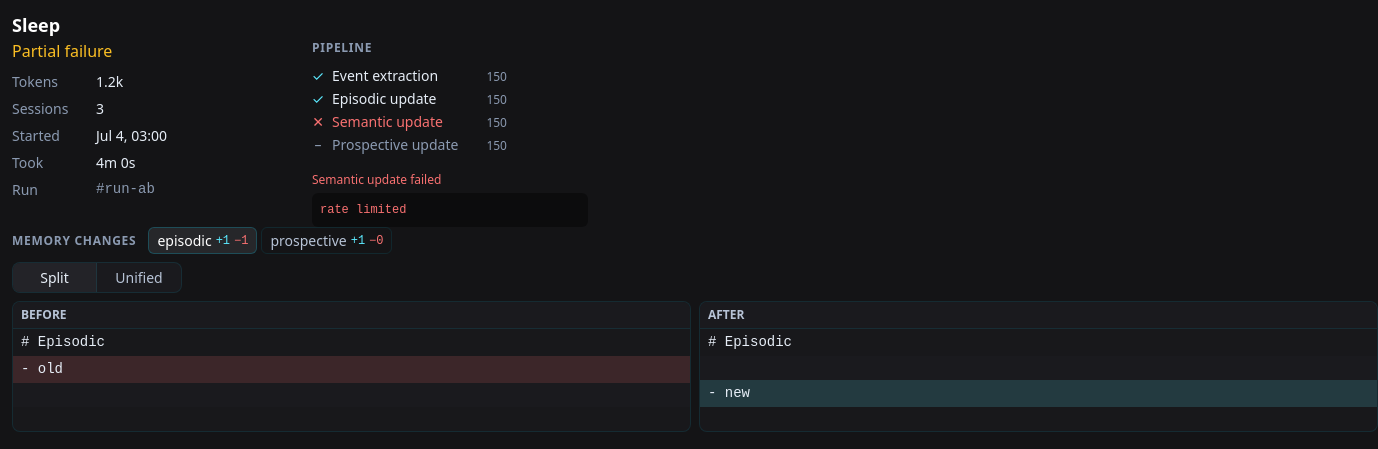
SleepRunBody › lists_only_changed_files_and_switches_the_diff
The image size is (1378, 449).
Step 1. Click the button with class "file-chip" showing "prospective +1 −0" → (327, 240), box top-left (262, 227), bottom-right (392, 254)
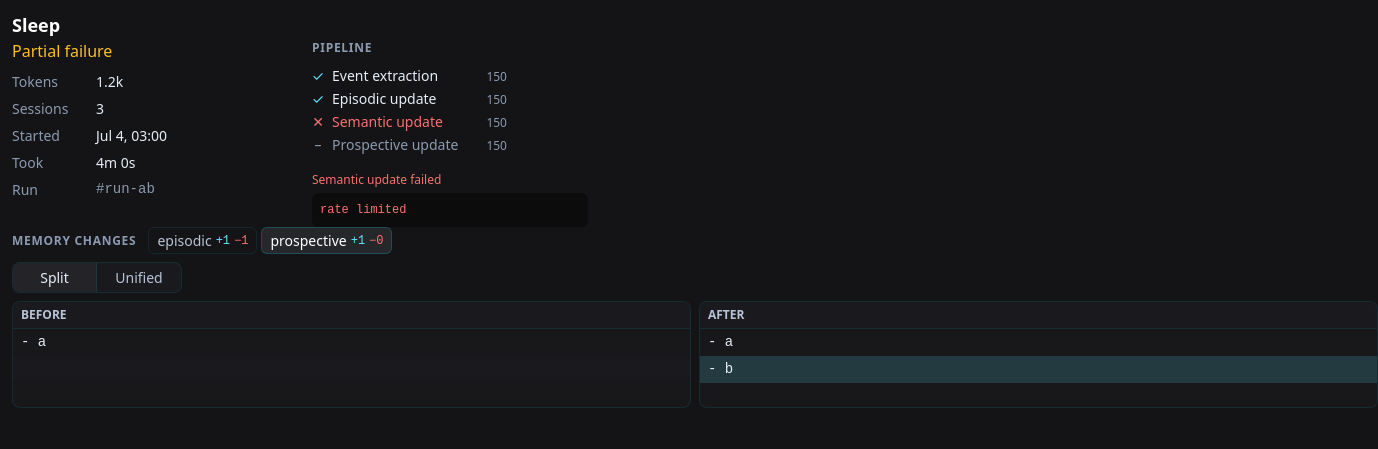
Check: the 1st text with class "count-add" reads "+1", box top-left (216, 232), bottom-right (230, 250)
Check: the text with class "diff-line-add" shows "b", box top-left (708, 361), bottom-right (733, 377)
